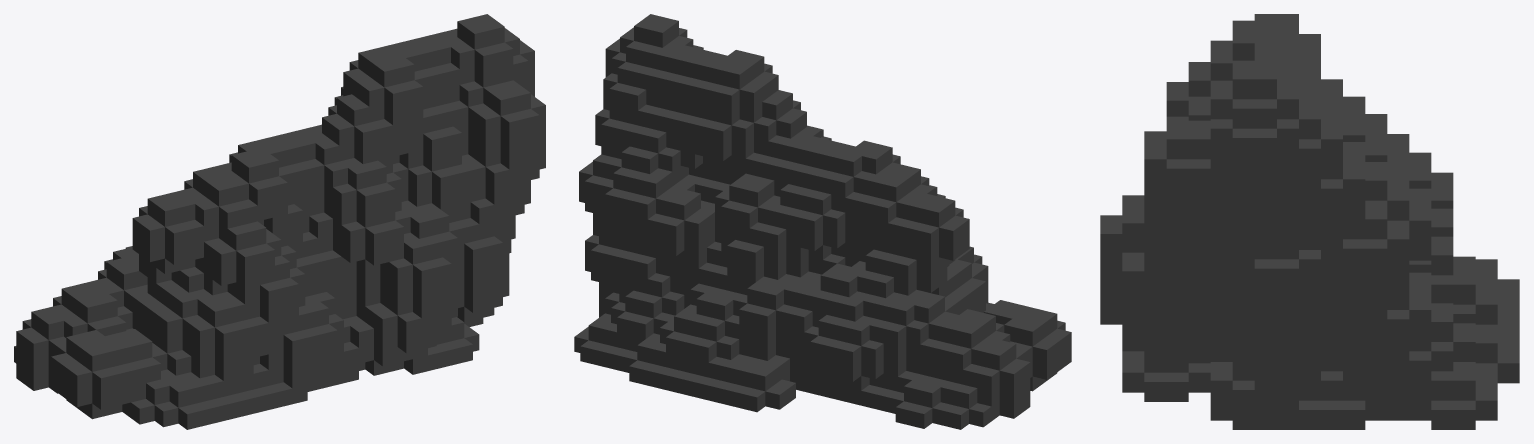
Rendered from stone_norm_03.obj.
3 renders of one model, left to right at view 1: azimuth 30°, elevation 25°; view 2: azimuth 150°, elevation 25°; view 3: azimuth 270°, elevation 25°, orthographic. The views are drawn at different scales.
Bounding box in the file's own units: 3.1 × 1.8 × 1.9.
1 material, 1 textured.
